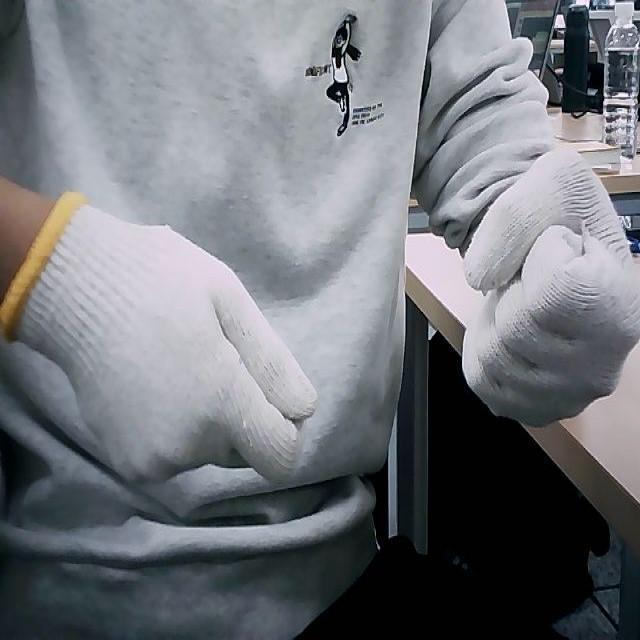gloves: (2, 189, 320, 486), (461, 145, 640, 425)
